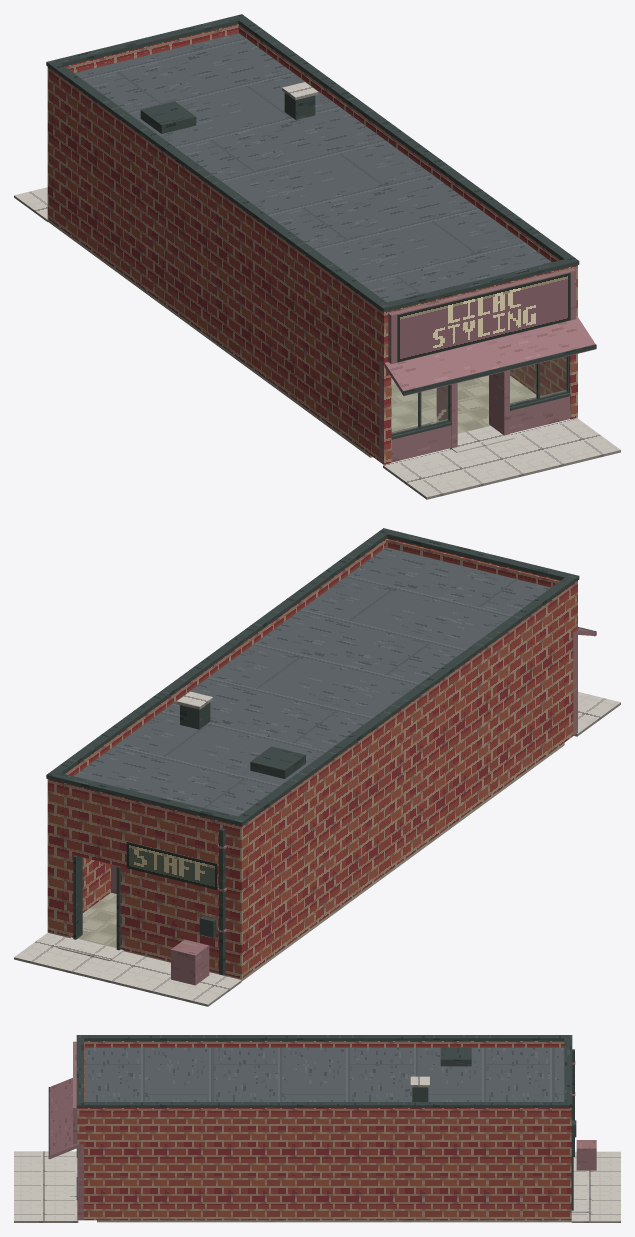
The model's file is salon-1980.glb.
The picture shows the model from 3 angles, top to bottom: view 1: azimuth 30°, elevation 25°; view 2: azimuth 150°, elevation 25°; view 3: azimuth 270°, elevation 25°; orthographic projection. The views are drawn at different scales.
Parts seen in each view (by area): view 1: shell, lot, sign_name, fixed_interior; view 2: shell, lot, fixed_interior, sign_staff; view 3: shell, lot, fixed_interior.
Boxes of the visible parts, left/top/right/bottom form: shell: left=46, top=14, right=596, bottom=464; lot: left=14, top=187, right=620, bottom=499; sign_name: left=397, top=273, right=570, bottom=362; fixed_interior: left=47, top=219, right=536, bottom=457; shell: left=46, top=528, right=596, bottom=978; lot: left=14, top=692, right=620, bottom=1006; fixed_interior: left=47, top=743, right=564, bottom=981; sign_staff: left=126, top=842, right=216, bottom=889; shell: left=48, top=1035, right=591, bottom=1220; lot: left=14, top=1140, right=620, bottom=1222; fixed_interior: left=97, top=1220, right=571, bottom=1222.
Size of what is drawn, in the model's own units: 6.05 by 5.06 by 22.1.
9 materials, 9 textured.
